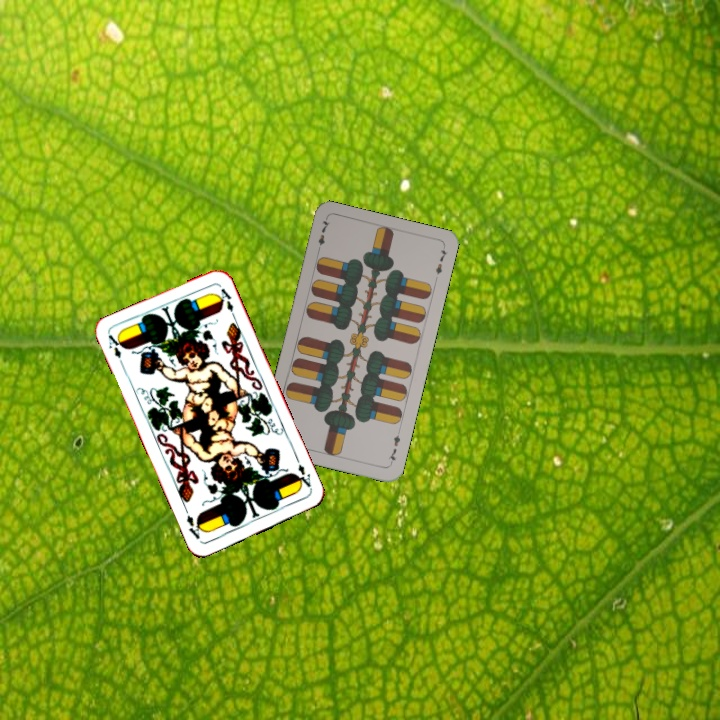E7: (313, 215, 332, 255), (384, 431, 403, 467)
EA: (104, 330, 127, 369), (291, 460, 315, 493)
